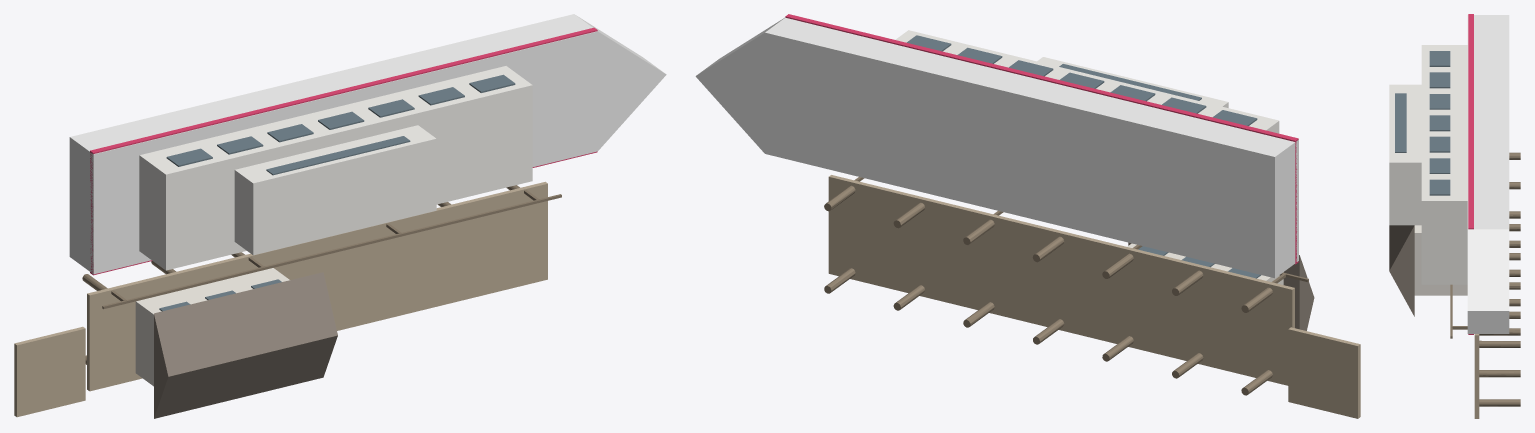
File: r-13-prygl-passenger-pier.glb
3 renders of one model, left to right at view 1: azimuth 30°, elevation 25°; view 2: azimuth 150°, elevation 25°; view 3: azimuth 270°, elevation 25°, orthographic. The views are drawn at different scales.
Visible parts, largest first — view 1: ship-cabin, ship-hull, deck, shelter-roof, ship-windows, shelter, ship-stripe, piles; view 2: ship-hull, deck, piles, ship-windows, ship-cabin, ship-stripe, shelter-roof; view 3: ship-cabin, ship-hull, ship-windows, piles, shelter-roof, ship-stripe, shelter, deck.
Boxes of the visible parts, x1,y1,x2,y2 form: ship-cabin: [139, 66, 532, 270]; ship-hull: [69, 14, 666, 274]; deck: [14, 181, 547, 417]; shelter-roof: [154, 272, 337, 418]; ship-windows: [166, 74, 515, 175]; shelter: [135, 268, 289, 386]; ship-stripe: [90, 27, 597, 275]; piles: [82, 185, 561, 364]; ship-hull: [695, 17, 1298, 278]; deck: [828, 175, 1360, 418]; piles: [824, 177, 1308, 395]; ship-windows: [907, 35, 1257, 125]; ship-cabin: [895, 30, 1279, 133]; ship-stripe: [785, 14, 1298, 264]; shelter-roof: [1128, 242, 1314, 330]; ship-cabin: [1389, 45, 1467, 284]; ship-hull: [1467, 15, 1509, 333]; ship-windows: [1395, 51, 1450, 195]; piles: [1450, 152, 1520, 406]; shelter-roof: [1389, 225, 1414, 316]; ship-stripe: [1468, 14, 1473, 334]; shelter: [1414, 225, 1467, 295]; deck: [1474, 334, 1479, 418].
Bounding box in the file's own units: 28000 × 10550 × 5700.
